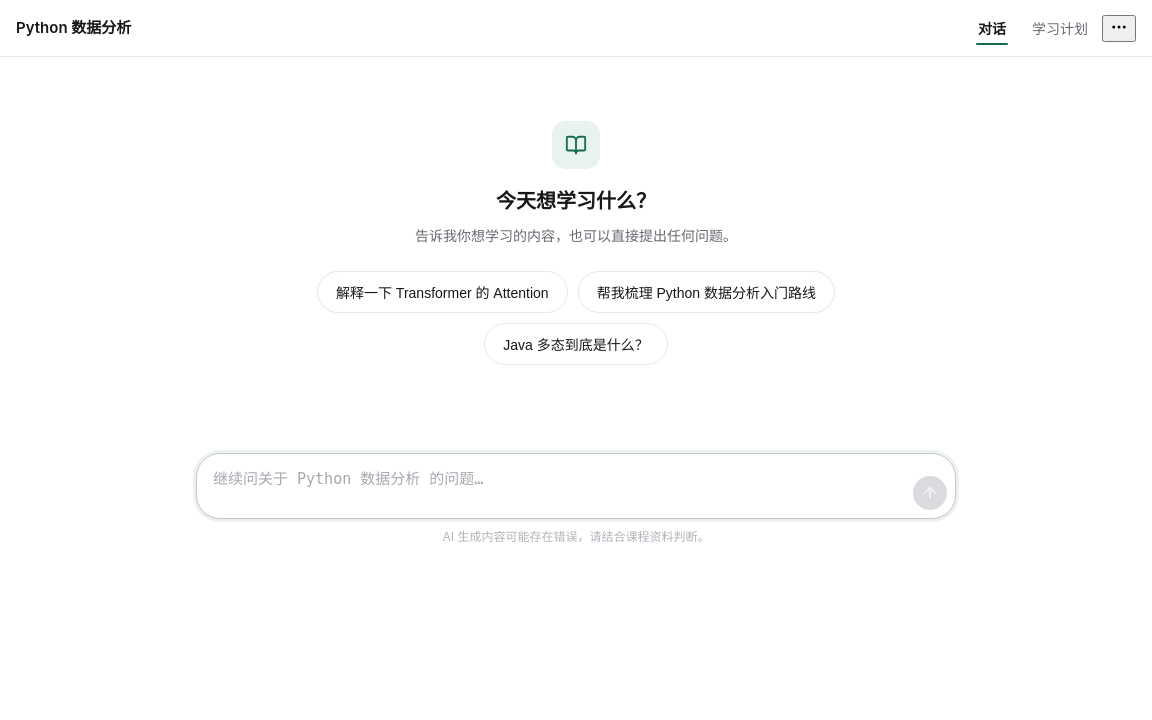
Test case: ChatPage send / retry › retry does not duplicate user bubble after failure
Type "解释 Attention" into the text box named "消息输入框".
click(559, 486); type("解释 Attention")  # box [213, 462, 905, 510]
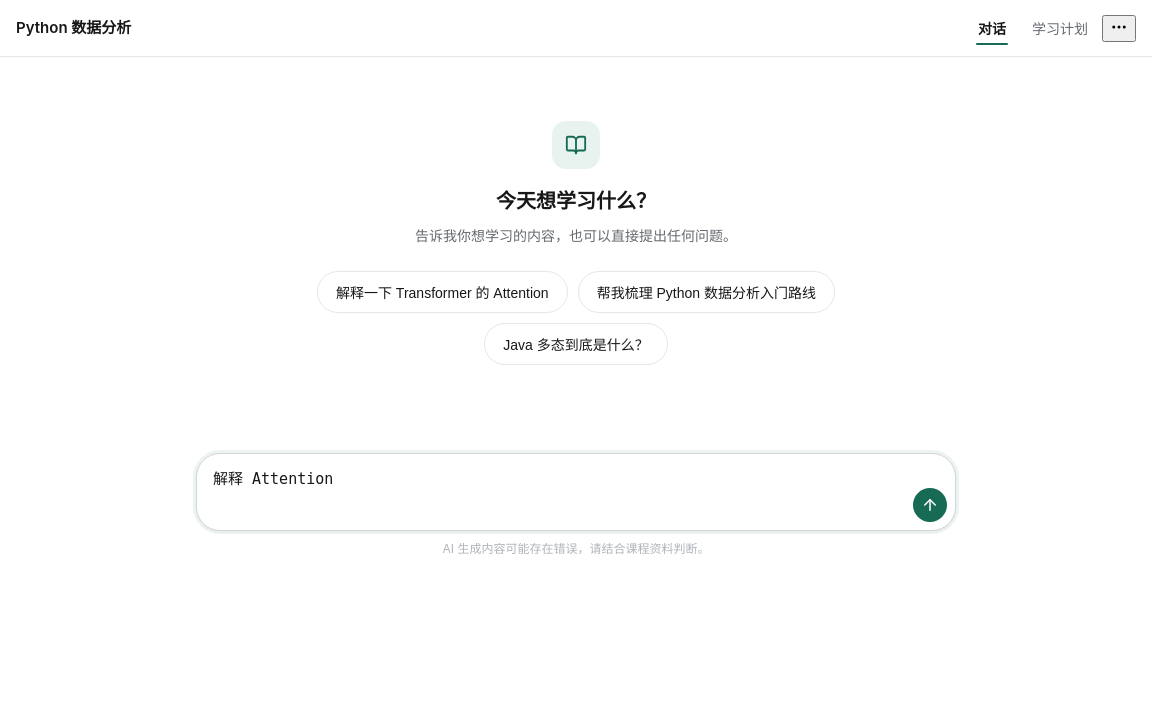
Click the button named "发送".
click(930, 505)  # box [913, 488, 947, 522]
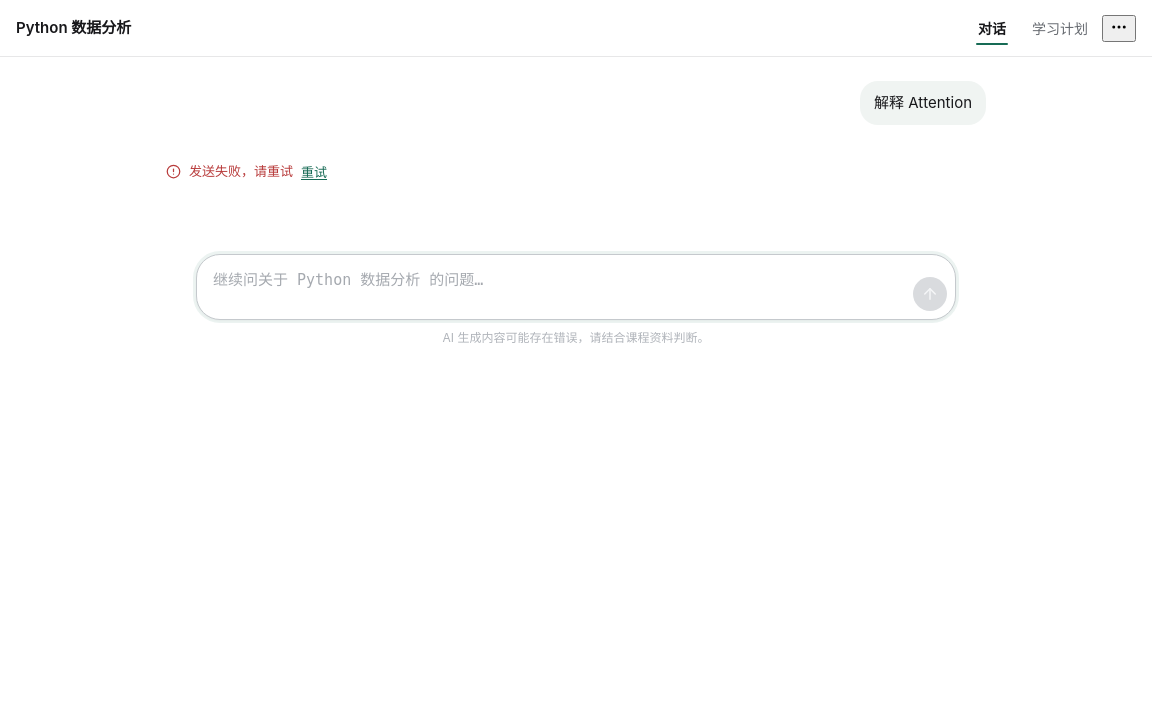
Check: the message "发送失败，请重试 重试" is shown, box [166, 162, 327, 181]
Check: the text "解释 Attention" is shown once, box [860, 81, 986, 125]
Click the button "重试".
click(314, 171)  # box [301, 162, 327, 181]
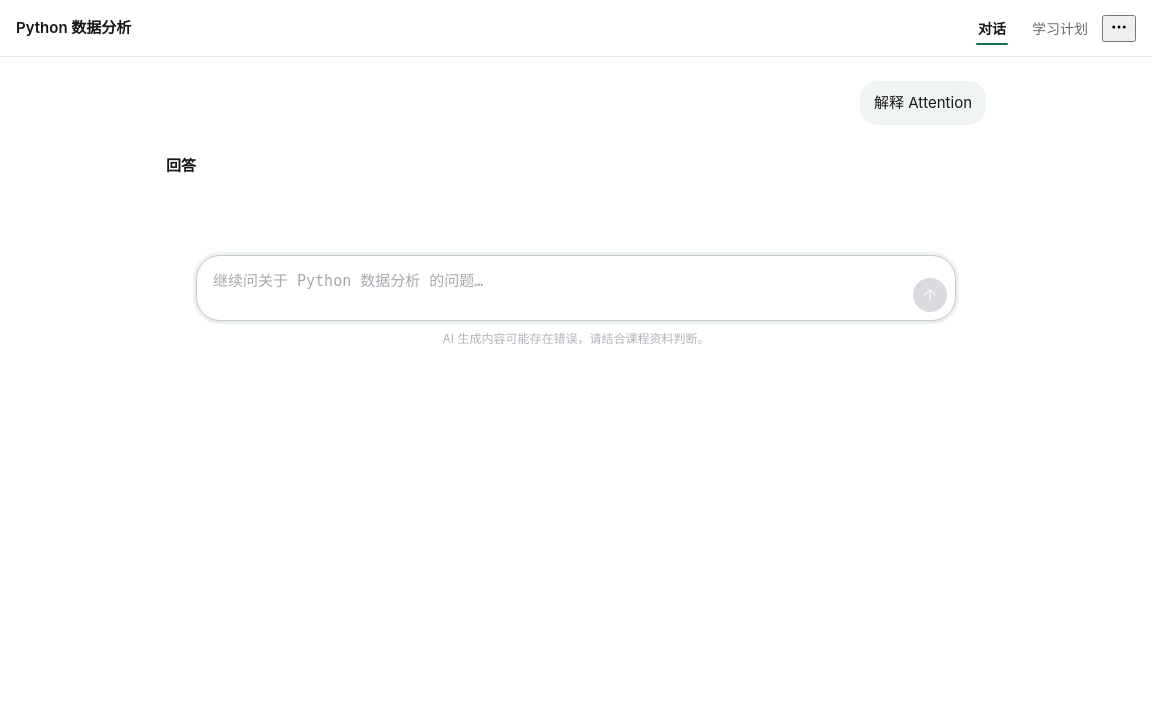
Check: the text "解释 Attention" is shown once, box [860, 81, 986, 125]
Check: the text "回答" is shown, box [166, 156, 196, 175]
